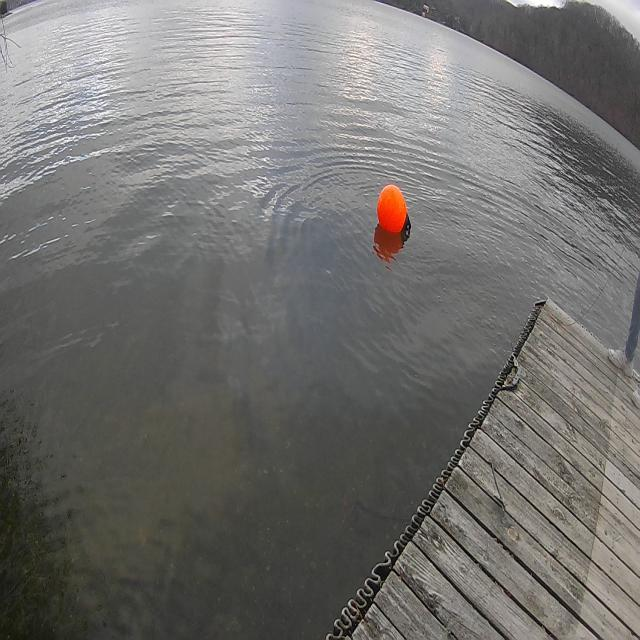Buoy: (376, 181, 415, 243)
